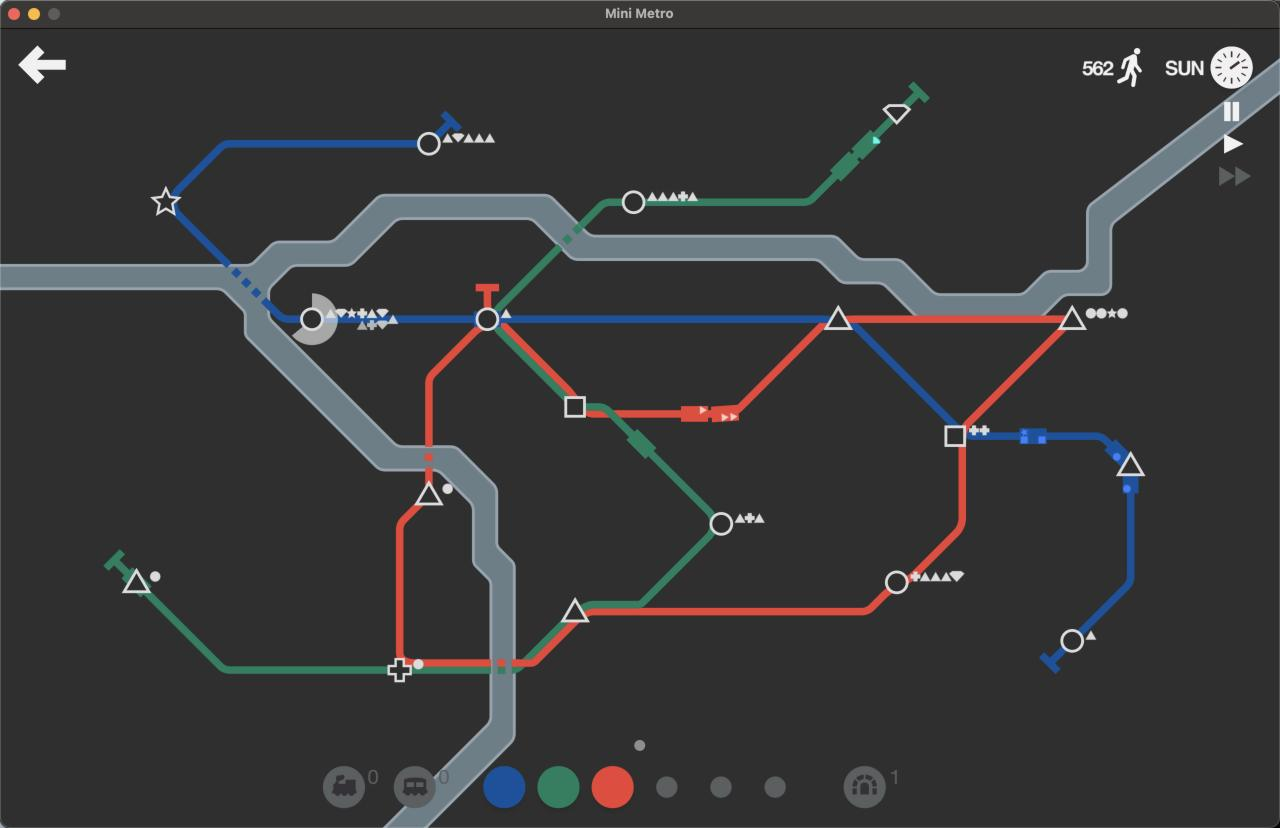CIRCLE: (474, 306, 501, 332), (416, 131, 442, 156), (299, 306, 324, 332), (884, 570, 910, 595), (709, 512, 734, 536), (1060, 628, 1084, 653), (622, 190, 646, 214)
CROSS: (387, 658, 412, 682)
DIAMOND: (882, 102, 910, 124)
SQUARE: (563, 395, 587, 418), (944, 425, 966, 448)
STAR: (150, 185, 182, 216)
TRIANGLE: (1116, 449, 1147, 477), (122, 567, 153, 594), (561, 597, 591, 624), (414, 481, 444, 508), (824, 304, 852, 331), (1058, 304, 1087, 330)
